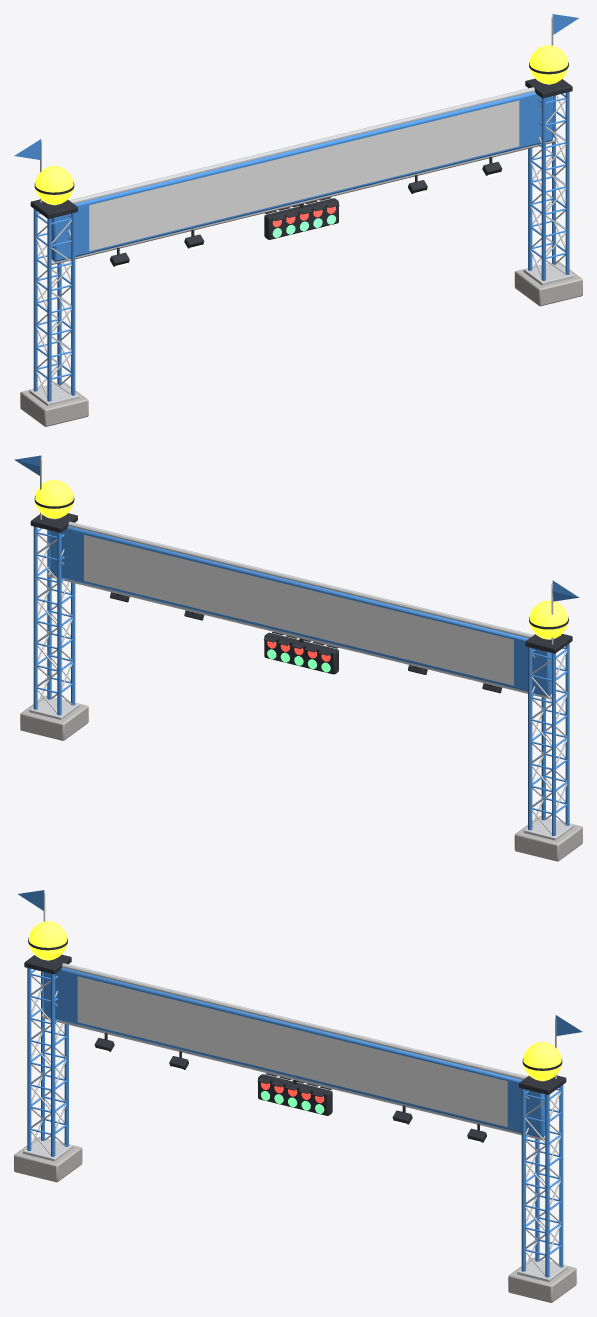
The model's file is gate.glb.
3 views of the same model, one above another, from view 1: azimuth 30°, elevation 25°; view 2: azimuth 150°, elevation 25°; view 3: azimuth 330°, elevation 25° (orthographic).
Parts seen in each view (by area): view 1: finish_gate; view 2: finish_gate; view 3: finish_gate.
Part boxes in pixels (x1=…): finish_gate: x1=14, y1=14, x2=582, y2=426; finish_gate: x1=14, y1=455, x2=582, y2=861; finish_gate: x1=14, y1=890, x2=582, y2=1302.
Bounding box in the file's own units: 33.4 × 15.41 × 2.6.
